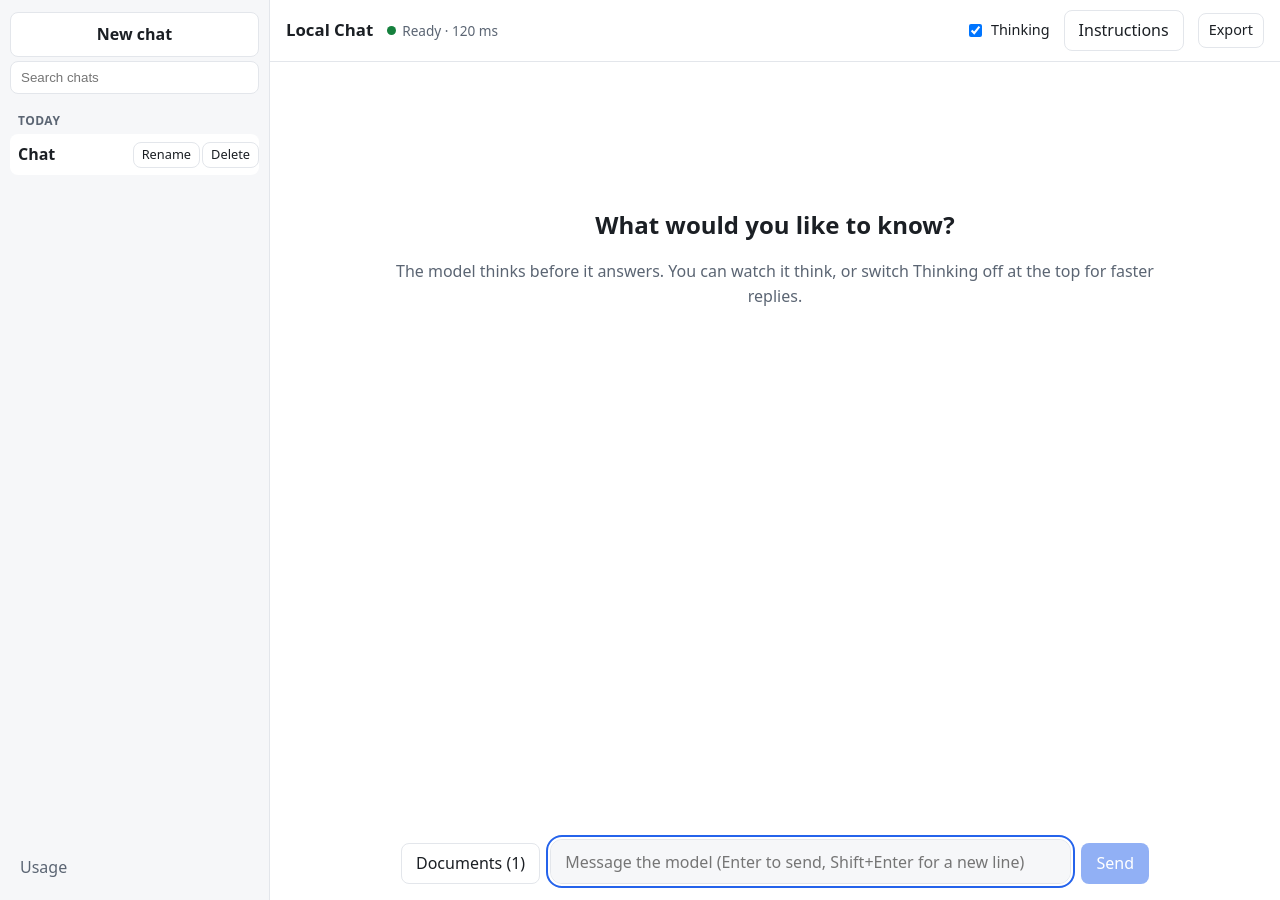
Test: documents › shows the attached documents of a saved chat when it is opened
This screenshot has width=1280, height=900.
Step 1. Click the button "Documents (1)" → coordinates (471, 864), box [401,843,540,884]
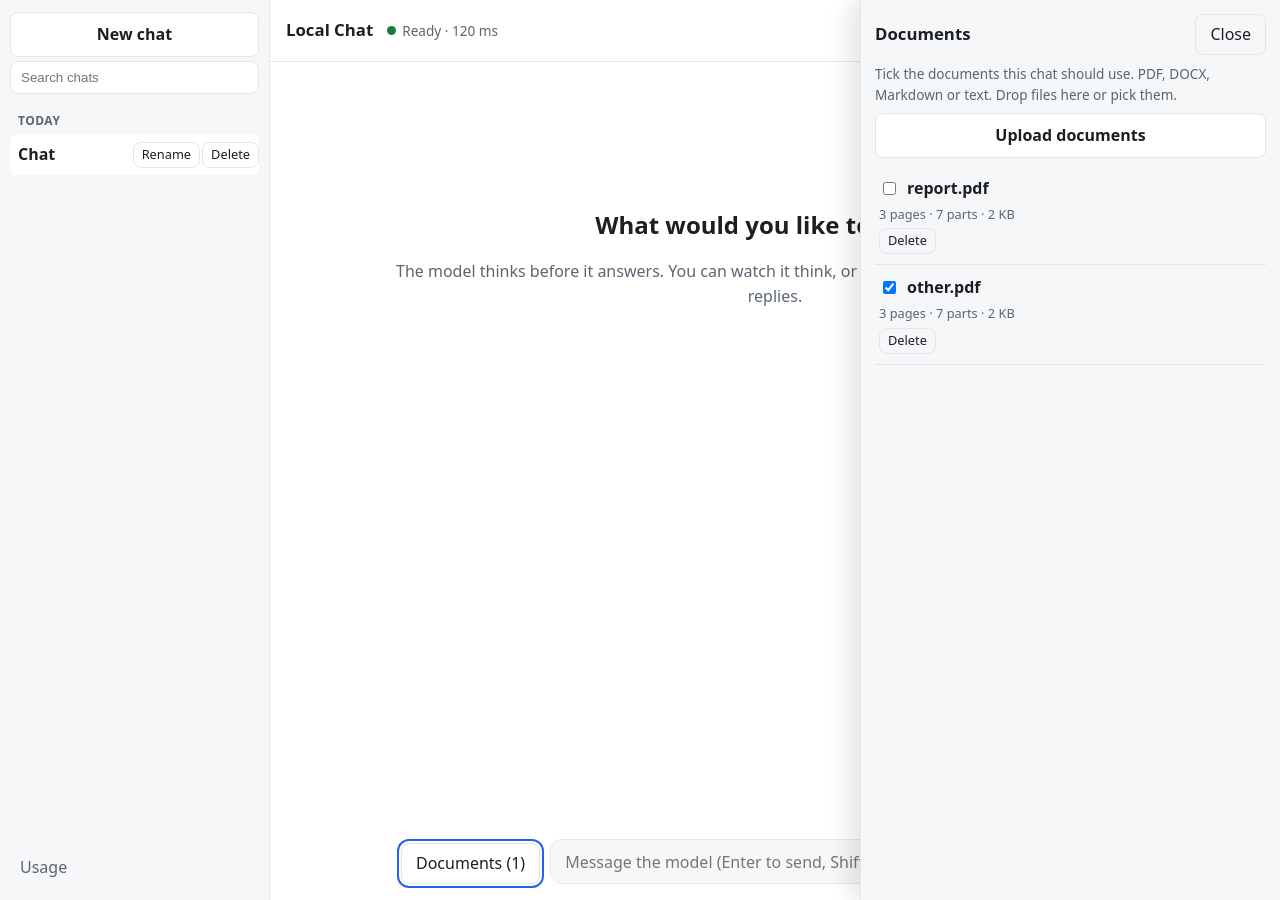
Now the checkbox named "Use other.pdf in this chat" is checked, box [883,281,896,294]
Now the checkbox named "Use report.pdf in this chat" is not checked, box [883,182,896,195]
